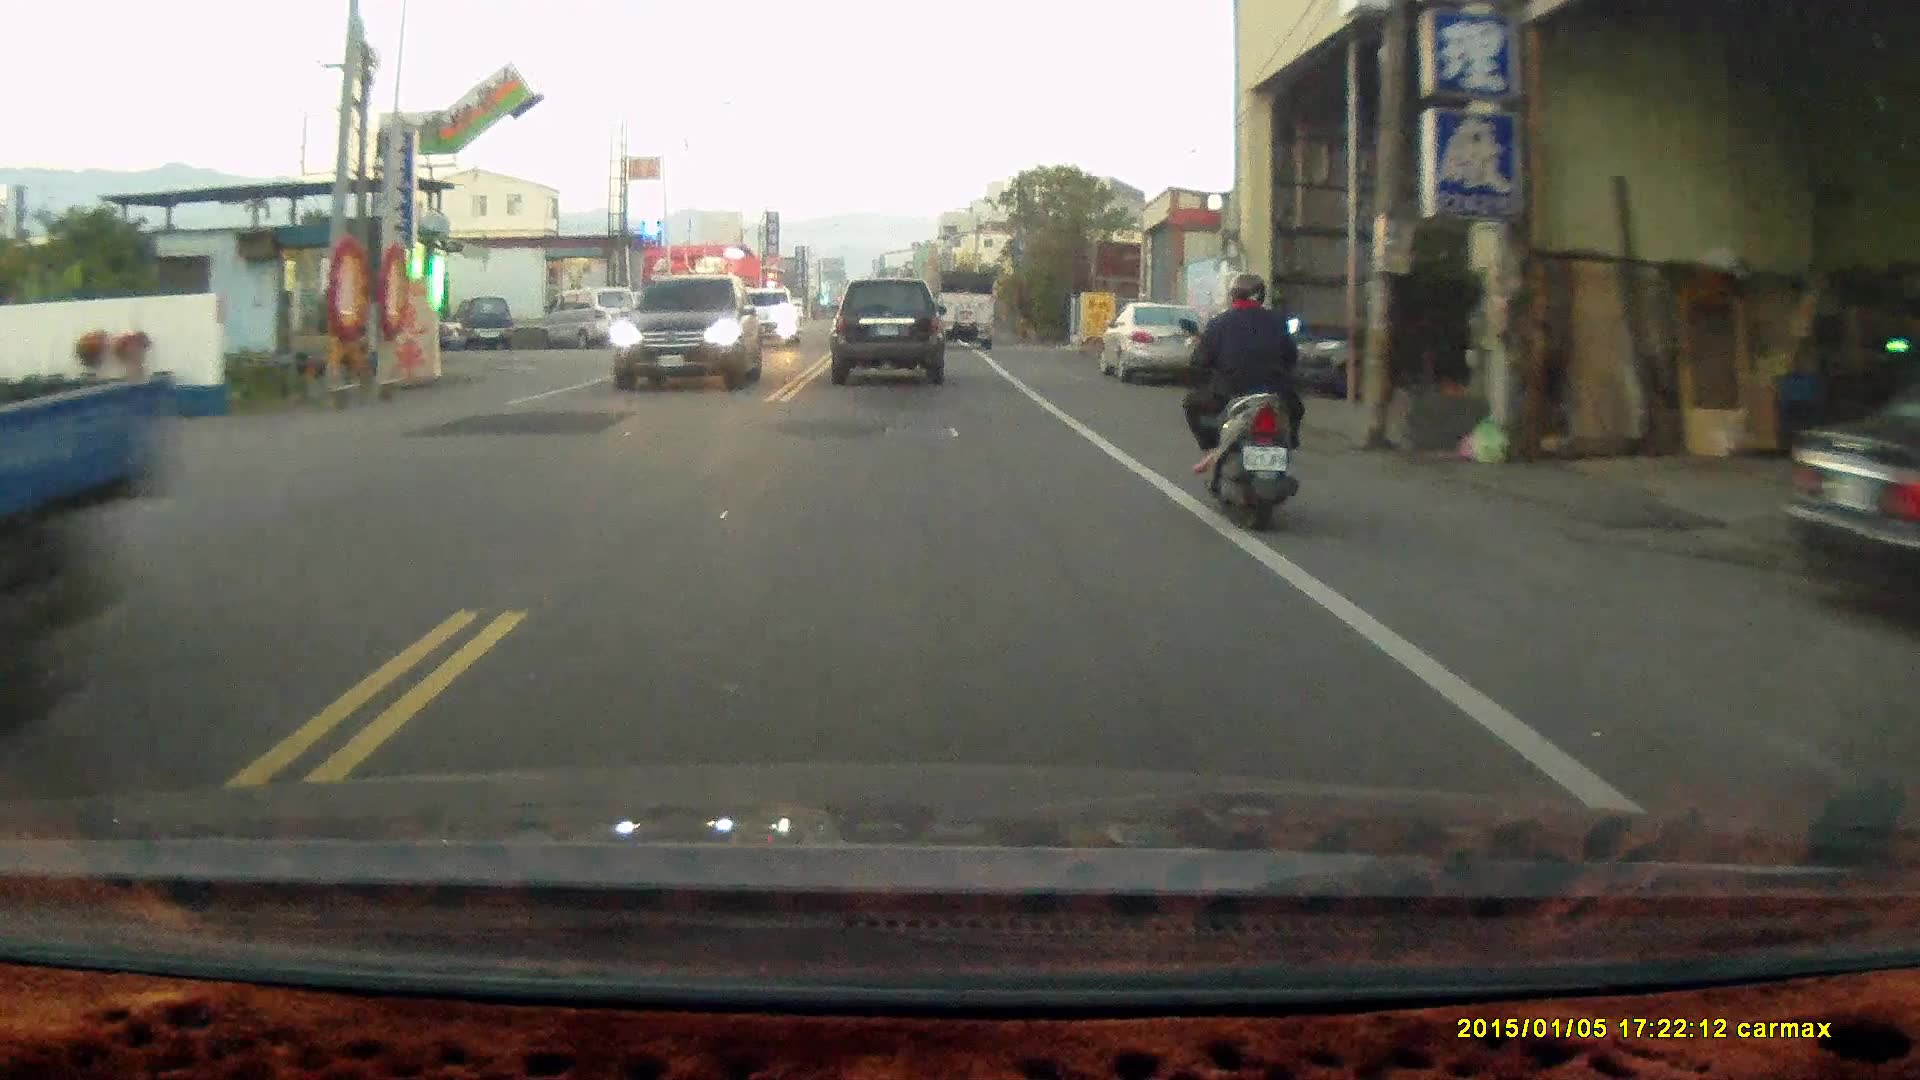rider: (1176, 269, 1307, 534)
vehicle: (1, 225, 168, 683), (610, 278, 768, 398), (830, 277, 947, 385), (1100, 300, 1207, 381), (547, 286, 639, 350), (928, 267, 998, 348)
